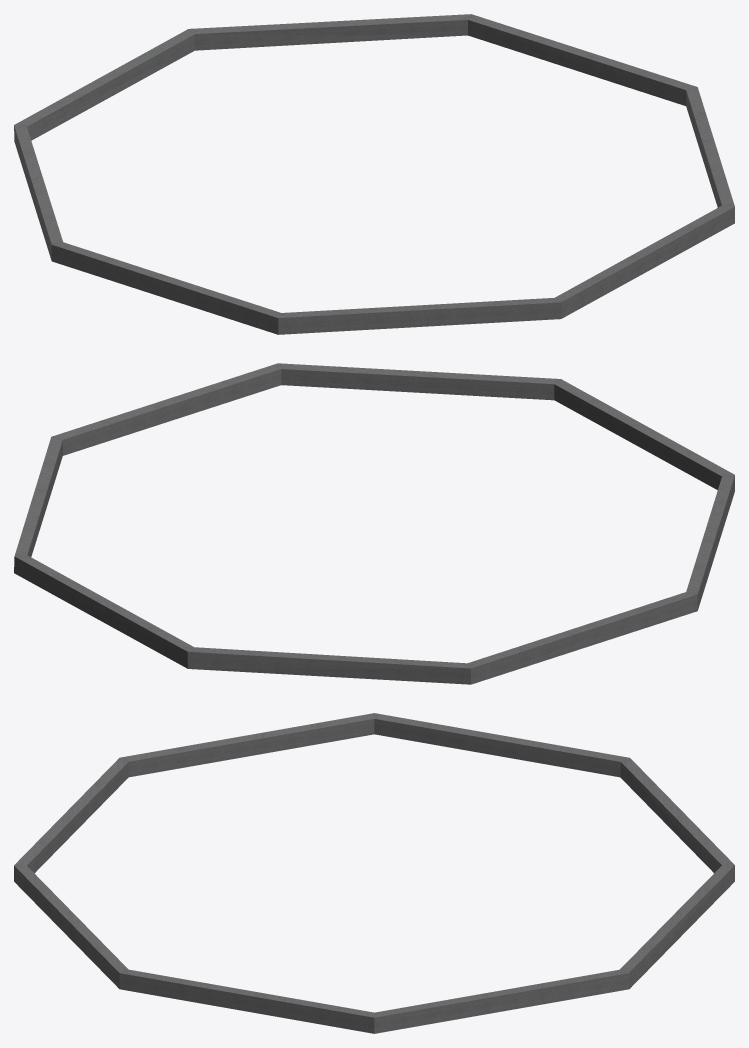
File: GH_1_FloorLat.gltf
The picture shows the model from 3 angles, top to bottom: view 1: azimuth 30°, elevation 25°; view 2: azimuth 150°, elevation 25°; view 3: azimuth 270°, elevation 25°; orthographic projection. The views are drawn at different scales.
Visible parts, largest first — view 1: GH_1_FloorLat; view 2: GH_1_FloorLat; view 3: GH_1_FloorLat.
Part boxes in pixels (x1,y1,x2,y2): GH_1_FloorLat: [14, 14, 734, 334]; GH_1_FloorLat: [14, 363, 734, 684]; GH_1_FloorLat: [14, 713, 734, 1033].
Size of the model in its own units: 23.41 by 0.5922 by 23.41.
Materials: 1 (1 with a texture image).
